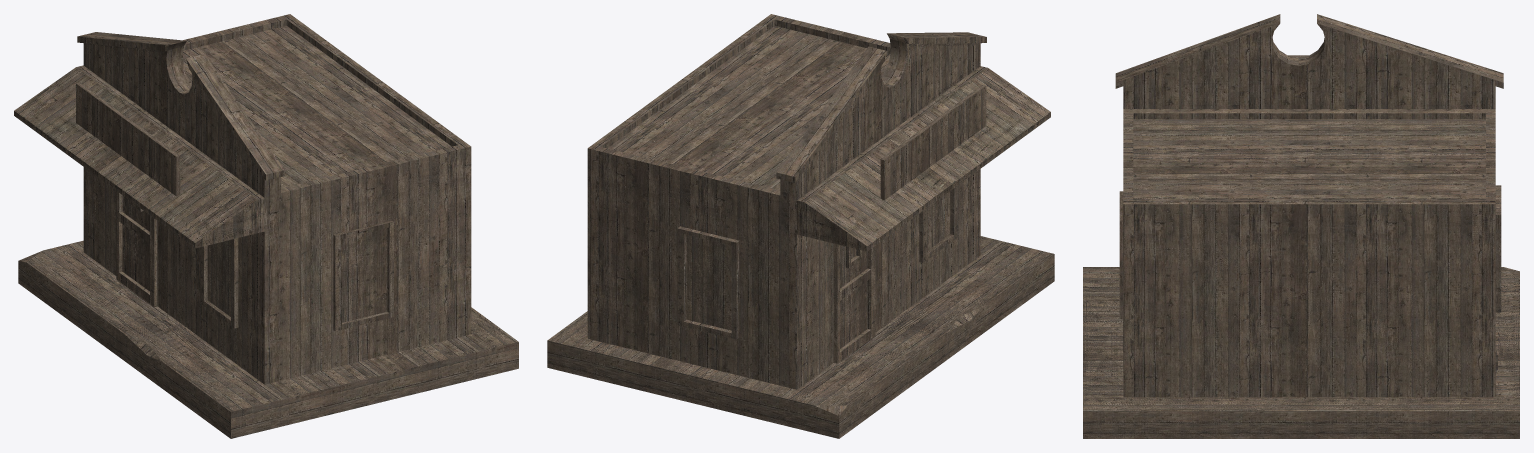
File: House 9.fbx
3 views of the same model, side by side, from view 1: azimuth 30°, elevation 25°; view 2: azimuth 150°, elevation 25°; view 3: azimuth 270°, elevation 25° (orthographic). The views are drawn at different scales.
Parts seen in each view (by area): view 1: Model; view 2: Model; view 3: Model.
Boxes of the visible parts, box(x1,y1,x2,y2) form: Model: box(14, 14, 518, 438); Model: box(547, 14, 1054, 438); Model: box(1083, 14, 1519, 438).
Size of the model in its own units: 55.87 by 52.34 by 67.69.
